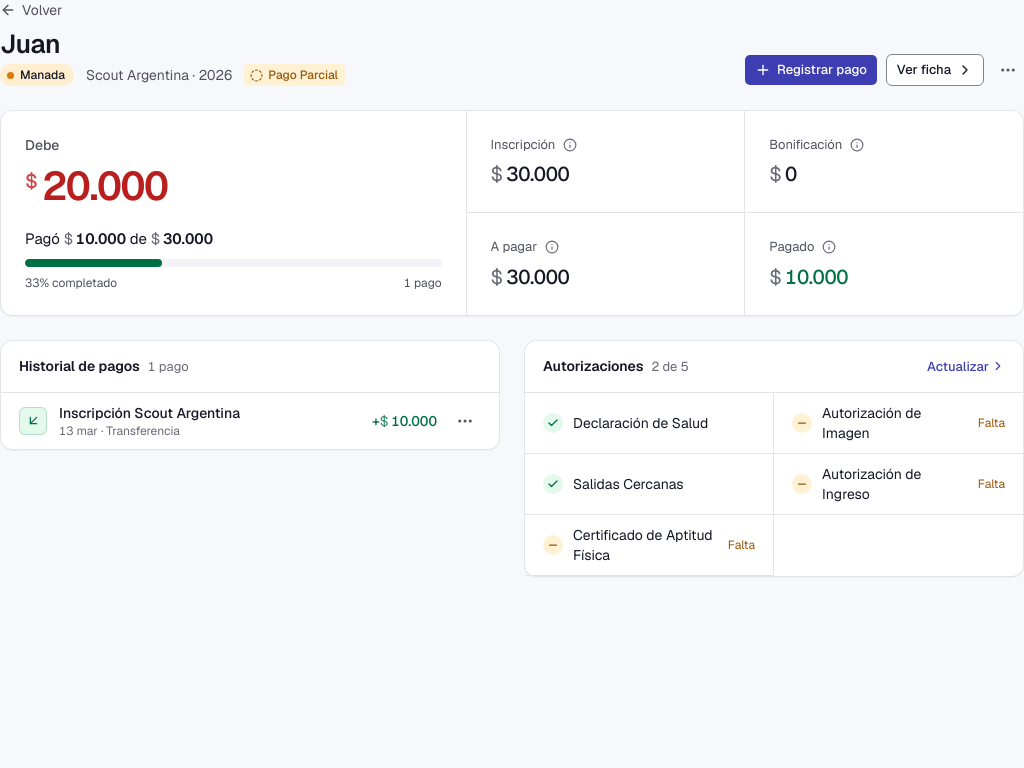
it: <InscripcionDetailView> › bonificar con pago parcial ofrece lo pendiente, no el total
Step 1. Click the button named "Más acciones de la inscripción" → (1008, 70), box [992, 54, 1023, 86]
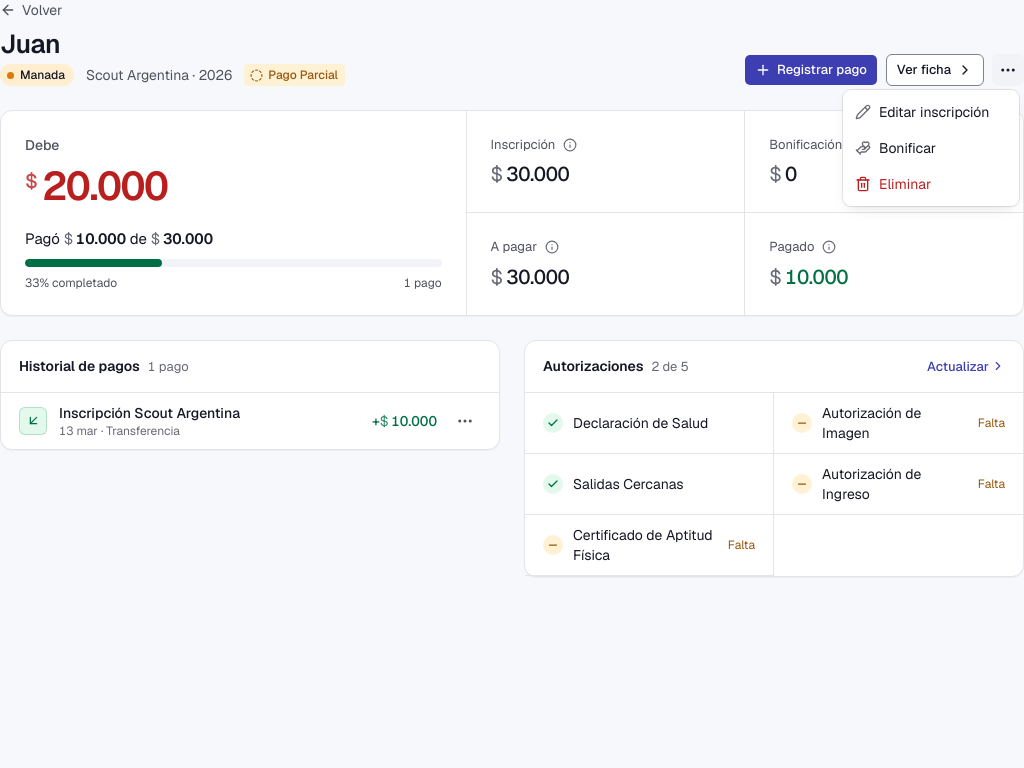
Step 2. Click the menu item "Bonificar" → (896, 148), box [855, 139, 936, 157]
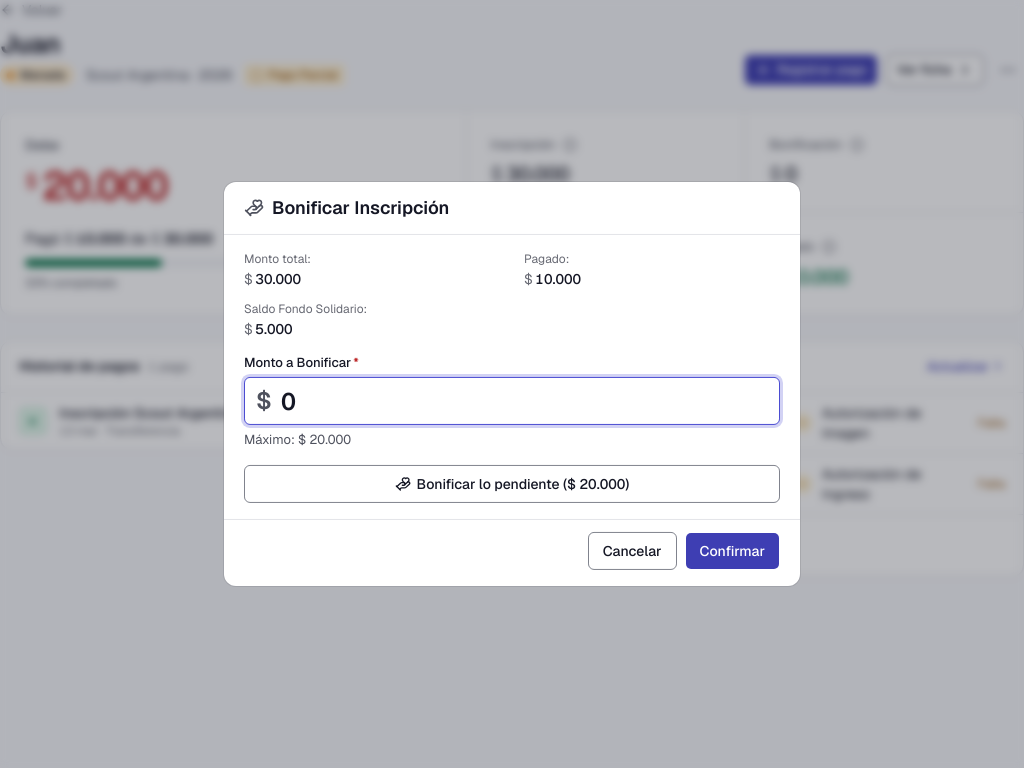
expect the button "Bonificar lo pendiente ($ 20.000)" is shown: met, box [244, 465, 780, 503]
expect the text "Máximo: $ 20.000" is shown: met, box [244, 431, 351, 448]
